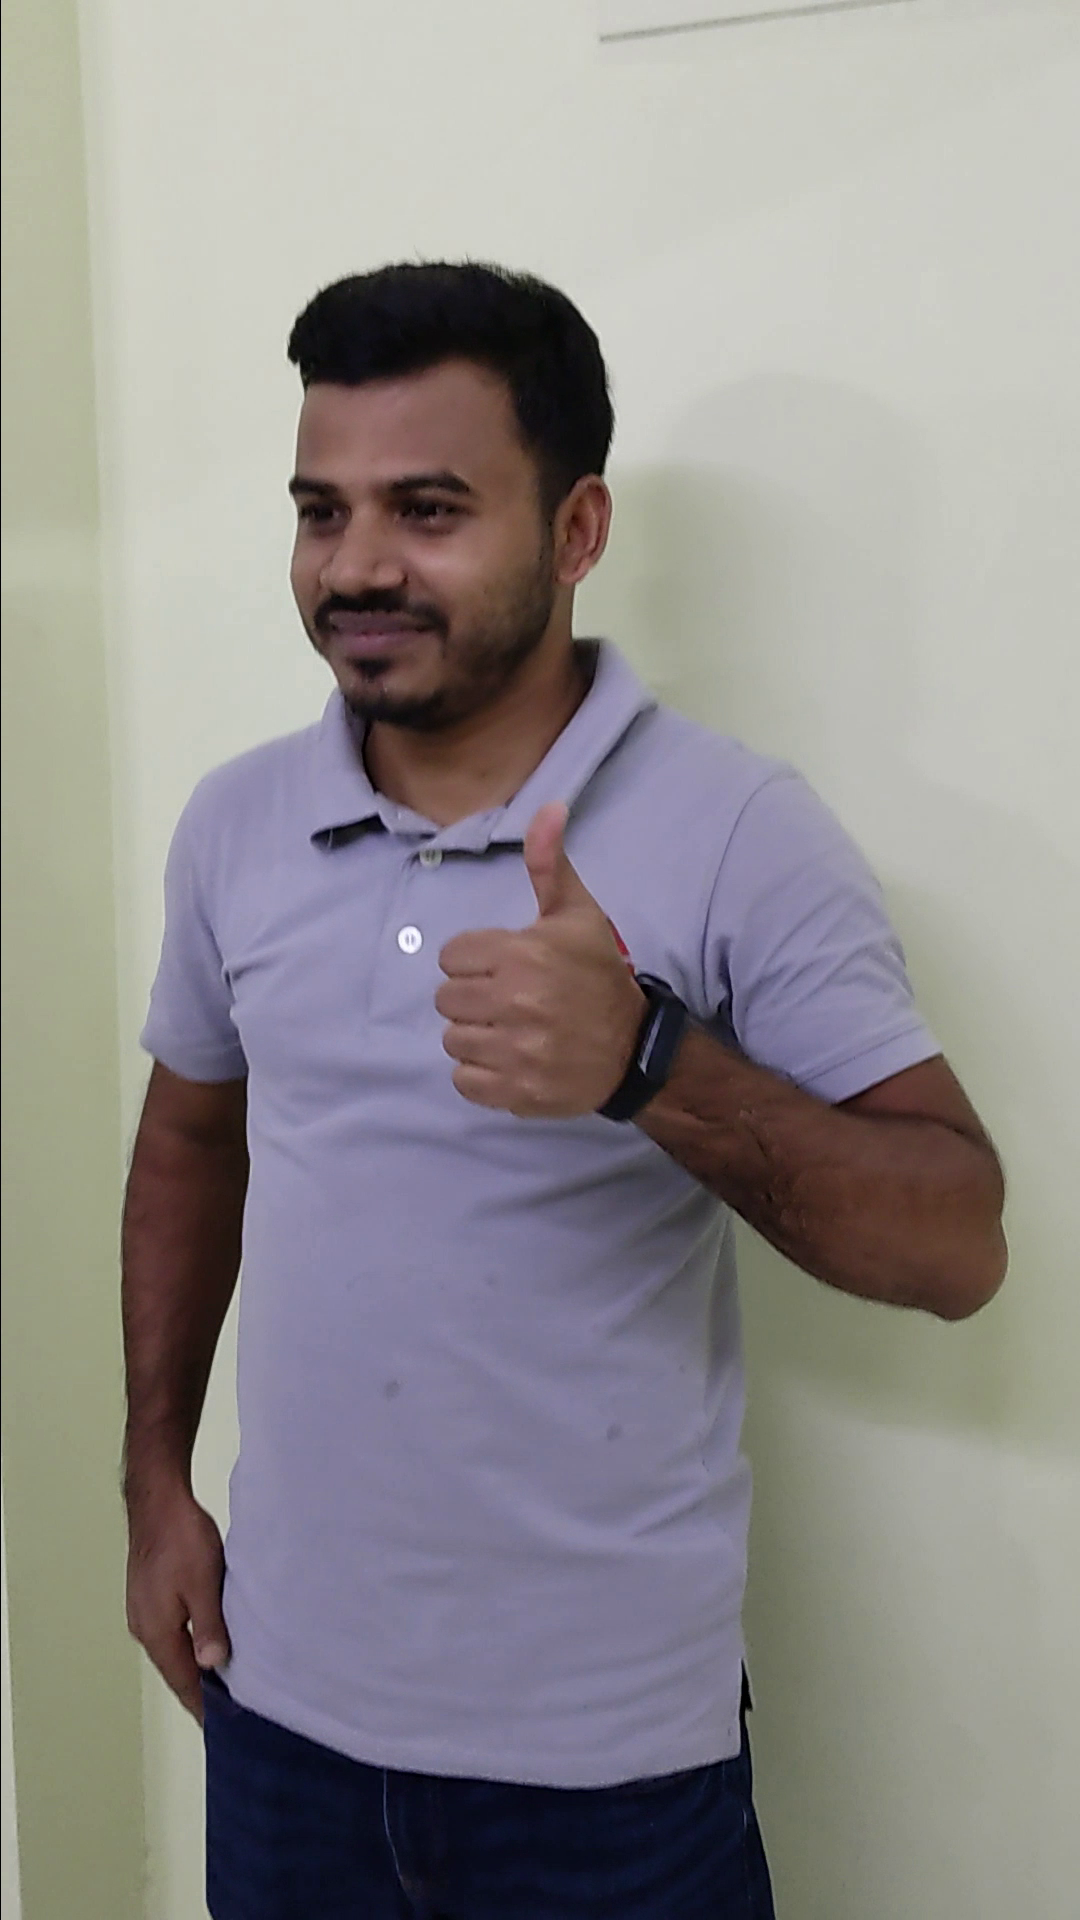Like: (421, 782, 659, 1131)
None: (94, 1444, 240, 1737)
